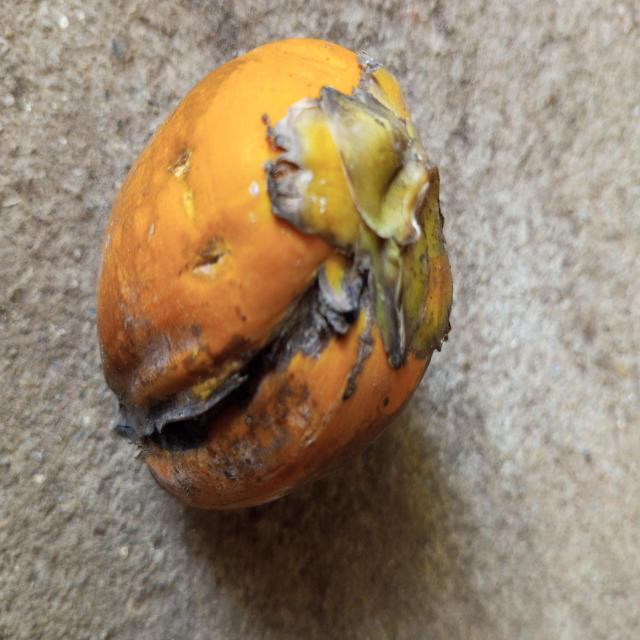damaged: (96, 38, 455, 515)
